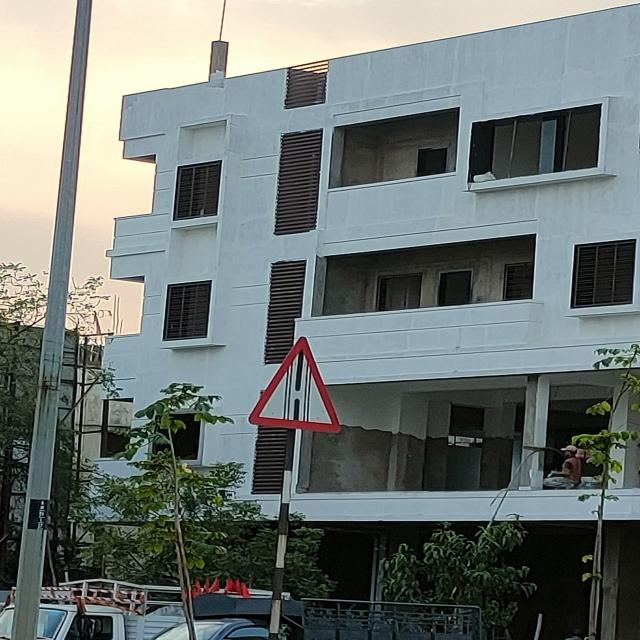ferry: (248, 339, 343, 431)
